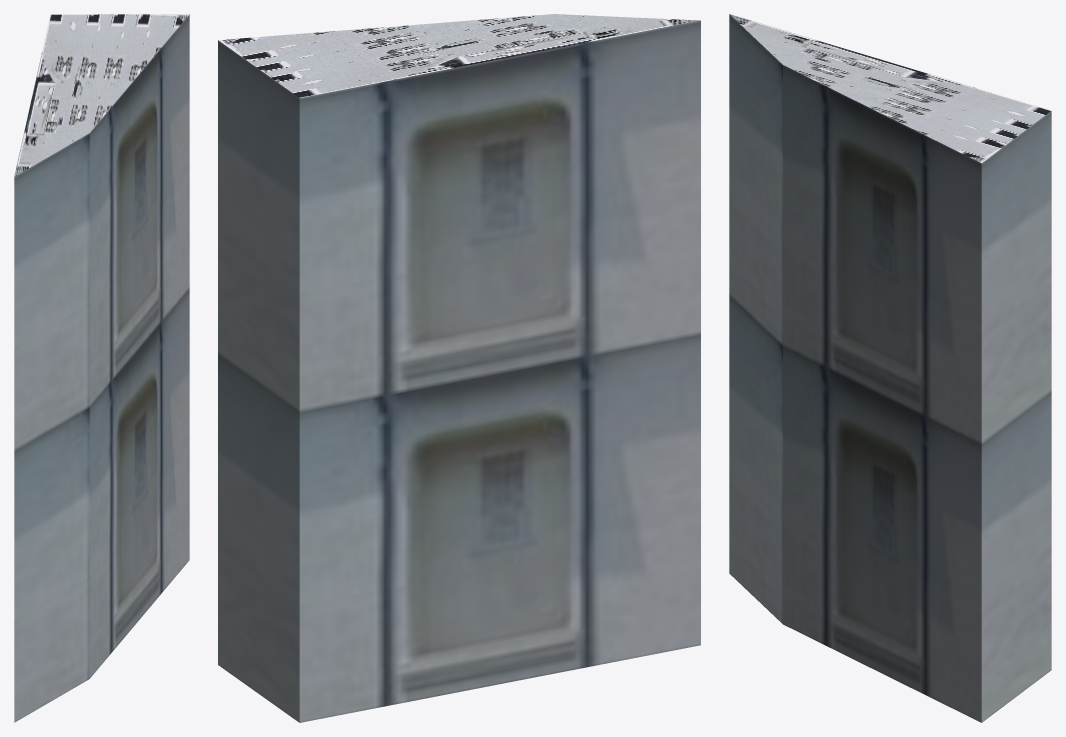
The model's file is ResTex__4483.fbx.
The picture shows the model from 3 angles, left to right: view 1: azimuth 30°, elevation 25°; view 2: azimuth 150°, elevation 25°; view 3: azimuth 270°, elevation 25°; orthographic projection. The views are drawn at different scales.
Visible parts, largest first — view 1: CityEngineMaterial_17_m, CityEngineMaterial_4_m; view 2: CityEngineMaterial_17_m, CityEngineMaterial_4_m; view 3: CityEngineMaterial_17_m, CityEngineMaterial_4_m.
Part boxes in pixels (x1,y1,x2,y2): CityEngineMaterial_17_m: (14,14,189,722); CityEngineMaterial_4_m: (14,14,189,176); CityEngineMaterial_17_m: (218,20,700,722); CityEngineMaterial_4_m: (218,14,700,97); CityEngineMaterial_17_m: (729,14,1051,722); CityEngineMaterial_4_m: (730,14,1050,163).
Bounding box in the file's own units: 3.44 × 6 × 3.13.
Materials: 2 (2 with a texture image).
